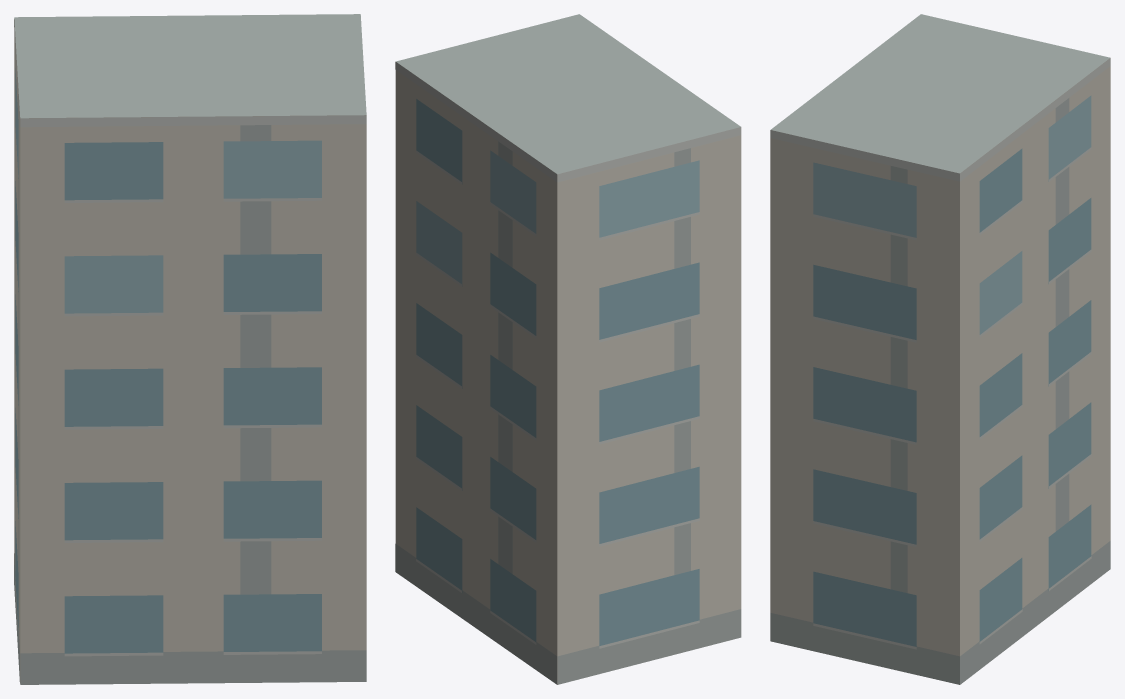
File: survey-upis-32877601.glb
3 views of the same model, side by side, from view 1: azimuth 30°, elevation 25°; view 2: azimuth 150°, elevation 25°; view 3: azimuth 270°, elevation 25° (orthographic). The views are drawn at different scales.
Parts seen in each view (by area): view 1: survey-upis-32877601.tmp; view 2: survey-upis-32877601.tmp; view 3: survey-upis-32877601.tmp.
Boxes of the visible parts, <box> form: survey-upis-32877601.tmp: <box>14,14,366,684</box>; survey-upis-32877601.tmp: <box>395,14,741,684</box>; survey-upis-32877601.tmp: <box>770,14,1110,684</box>.
Size of the model in its own units: 10.21 by 15.25 by 9.2.
